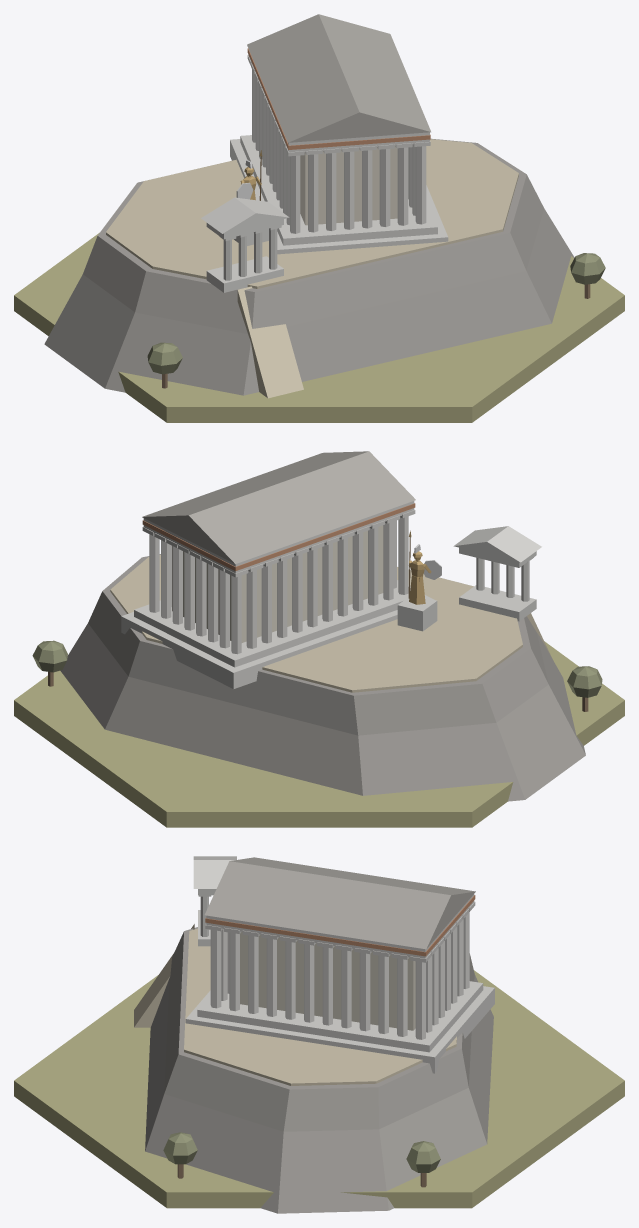
Rendered from parthenon.glb.
3 renders of one model, top to bottom at view 1: azimuth 30°, elevation 25°; view 2: azimuth 150°, elevation 25°; view 3: azimuth 270°, elevation 25°, orthographic.
Visible parts, largest first — view 1: LOD0; view 2: LOD0; view 3: LOD0.
Part boxes in pixels (x1,y1,x2,y2): LOD0: [14, 14, 624, 422]; LOD0: [14, 451, 624, 827]; LOD0: [14, 856, 624, 1213].
Size of what is drawn, in the model's own units: 1.6 by 0.74 by 1.76.
